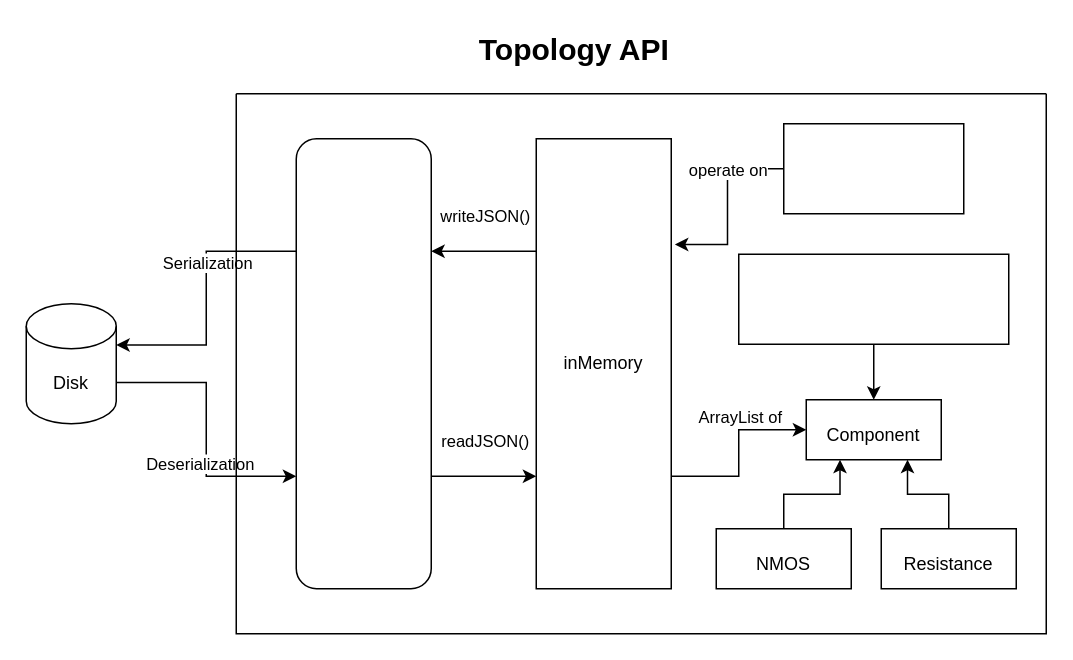
This 1073x660 diagram has some shape labels left out. The box of each missing label's shape, as (x1, y1, x2, y2) in pixels:
GSON: (295, 137, 431, 589)
queryDevices() queryDevicesWithNetlistNode(): (737, 253, 1009, 344)
queryTopologies() deleteTopology(): (782, 122, 964, 214)
